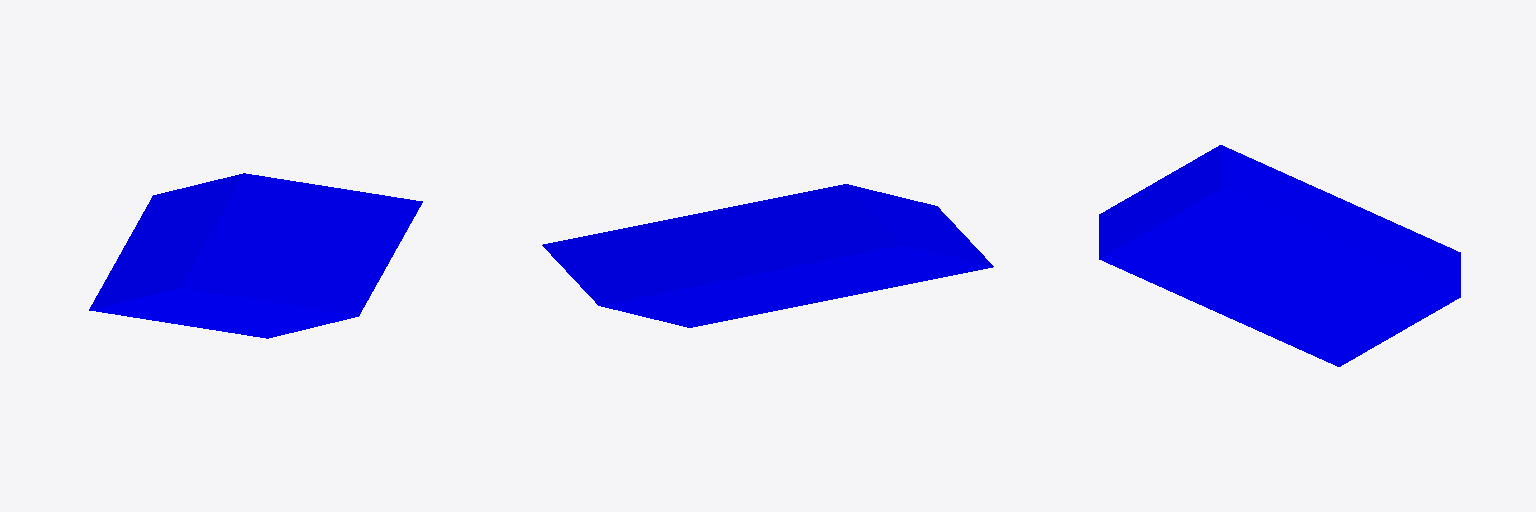
Rendered from planes_1-dynamic - BLK2GO-3630355-Scan 080 31.obj.
3 renders of one model, left to right at view 1: azimuth 30°, elevation 25°; view 2: azimuth 150°, elevation 25°; view 3: azimuth 270°, elevation 25°, orthographic.
Parts seen in each view (by area): view 1: 1-dynamic_-_BLK2GO-[number redacted]-Scan_080_31_0; view 2: 1-dynamic_-_BLK2GO-[number redacted]-Scan_080_31_0; view 3: 1-dynamic_-_BLK2GO-[number redacted]-Scan_080_31_0.
Boxes of the visible parts, <box> form: 1-dynamic_-_BLK2GO-[number redacted]-Scan_080_31_0: <box>89,173,422,338</box>; 1-dynamic_-_BLK2GO-[number redacted]-Scan_080_31_0: <box>542,184,993,327</box>; 1-dynamic_-_BLK2GO-[number redacted]-Scan_080_31_0: <box>1099,145,1460,366</box>.
Size of the model in its own units: 4.37 by 0.3238 by 3.48.